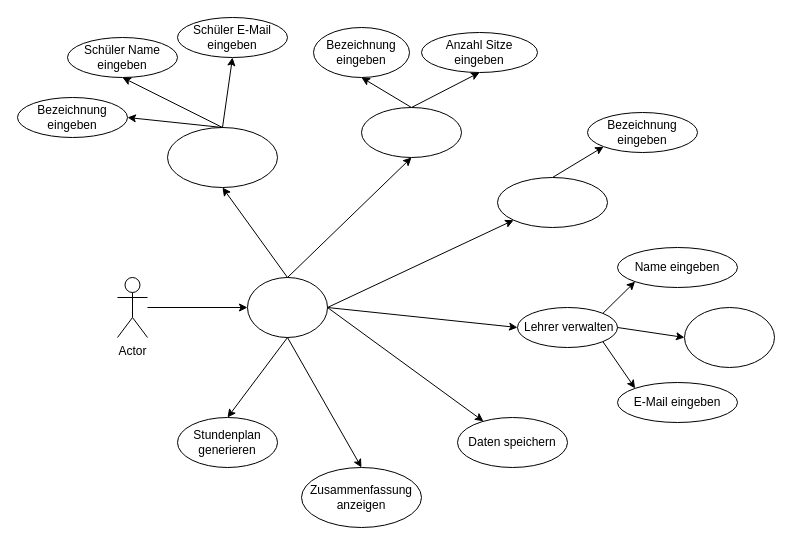
Image size: 792x545. Some labels were removed from this diagram. Each missing label, with the centre of its shape:
"Arbeitszeit definieren" goes at (729,337).
"Fächer verwalten" goes at (552,202).
"Klassen & Schüler verwalten" goes at (222,157).
"Räume verwalten" goes at (411,132).
"uses" goes at (287,307).
